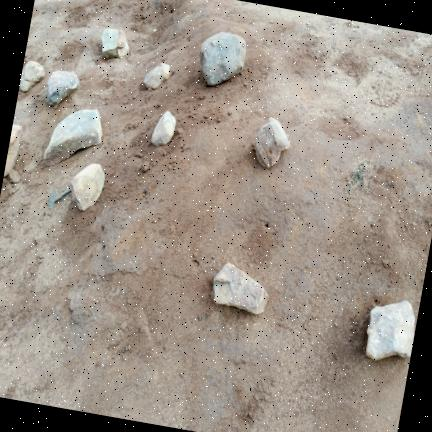Rocks: (43, 110, 101, 165), (365, 301, 414, 360), (212, 263, 267, 314), (198, 32, 245, 86), (254, 118, 289, 167), (70, 164, 103, 210), (46, 71, 78, 106), (151, 111, 175, 146), (4, 125, 20, 176), (101, 29, 128, 59), (19, 61, 43, 92), (143, 63, 168, 89), (8, 170, 19, 183)
